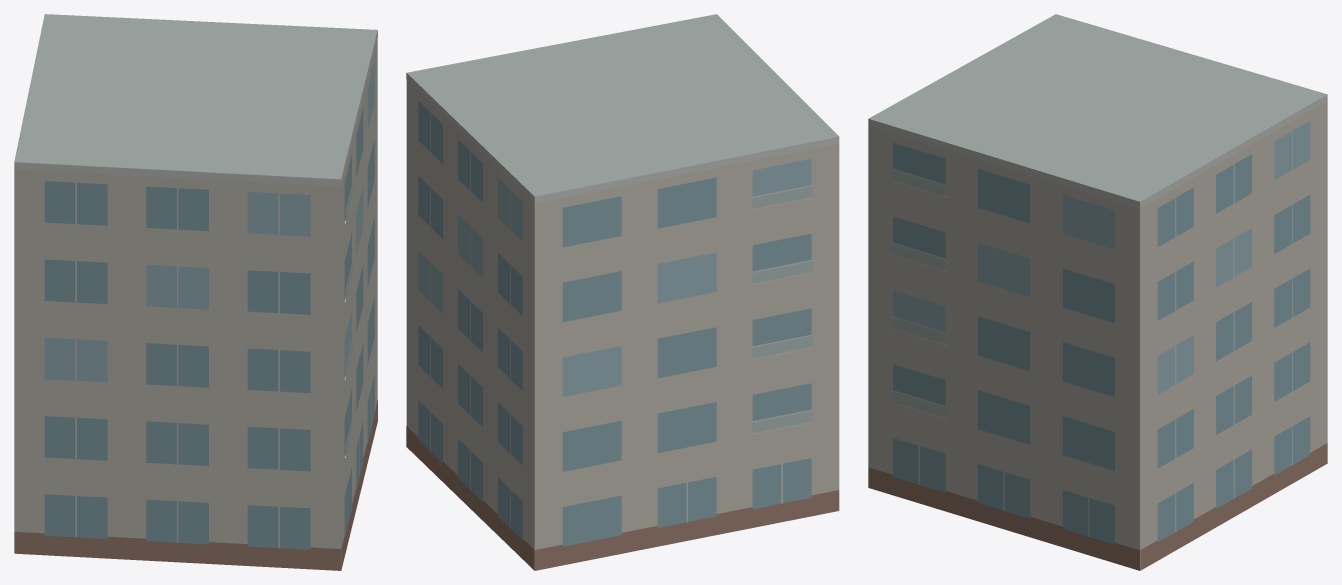
Rendered from survey-upis-32965217.glb.
3 renders of one model, left to right at view 1: azimuth 30°, elevation 25°; view 2: azimuth 150°, elevation 25°; view 3: azimuth 270°, elevation 25°, orthographic. The views are drawn at different scales.
Parts seen in each view (by area): view 1: survey-upis-32965217.tmp; view 2: survey-upis-32965217.tmp; view 3: survey-upis-32965217.tmp.
Part boxes in pixels (x1,y1,x2,y2): survey-upis-32965217.tmp: (14,14,377,570); survey-upis-32965217.tmp: (406,14,839,570); survey-upis-32965217.tmp: (868,14,1327,570).
Size of the model in its own units: 14.53 by 13.31 by 15.02.
